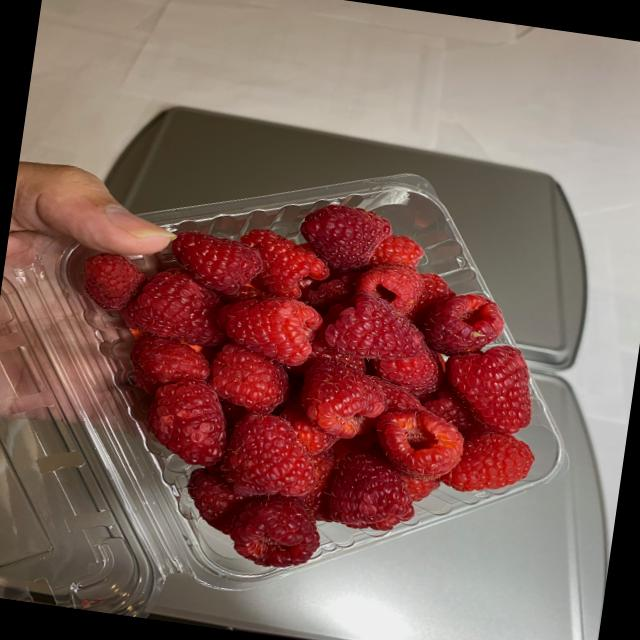raspberries: (71, 190, 546, 527)
